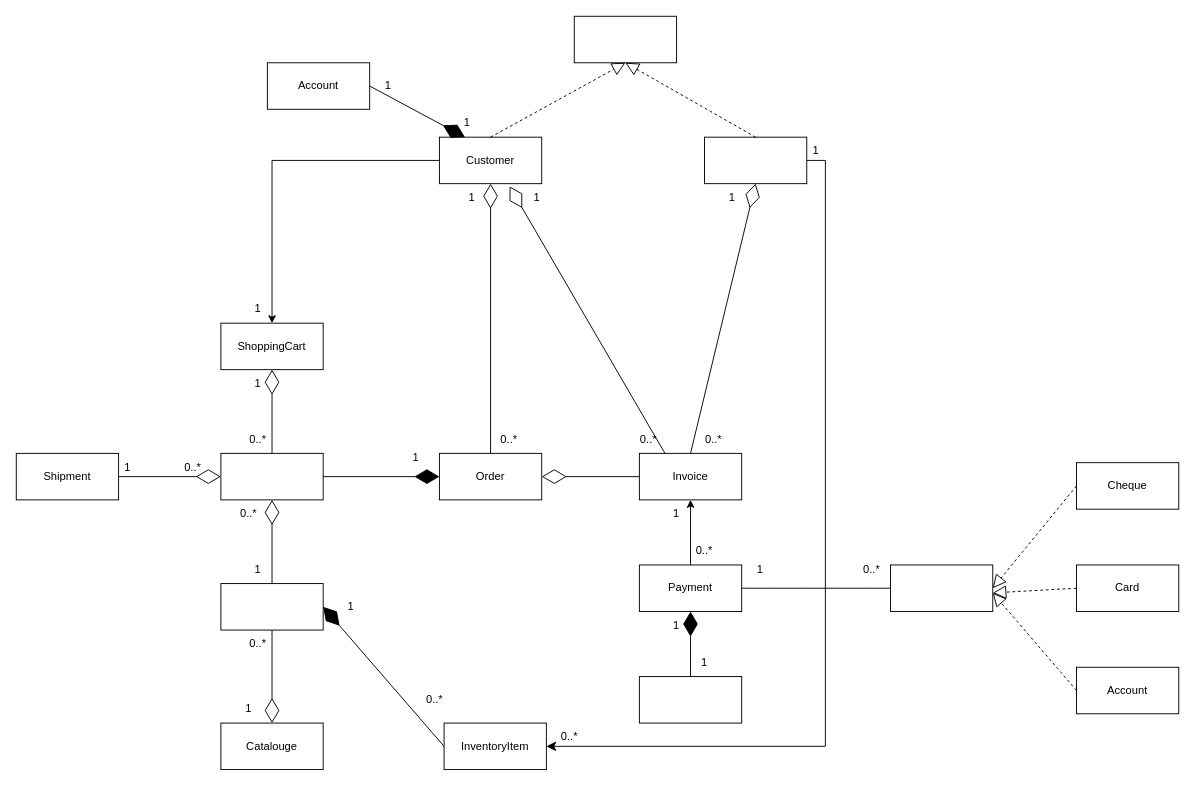
Image size: 1195x787. Some labels were removed from this diagram. The centre of each missing label's shape, as x and y in pixels:
"Admin" belongs at [755,160].
"OrderItem" belongs at [271,476].
"PaymentMethod" belongs at [941,587].
"Product" belongs at [271,606].
"Receipt" belongs at [690,699].
"User" belongs at [625,39].
